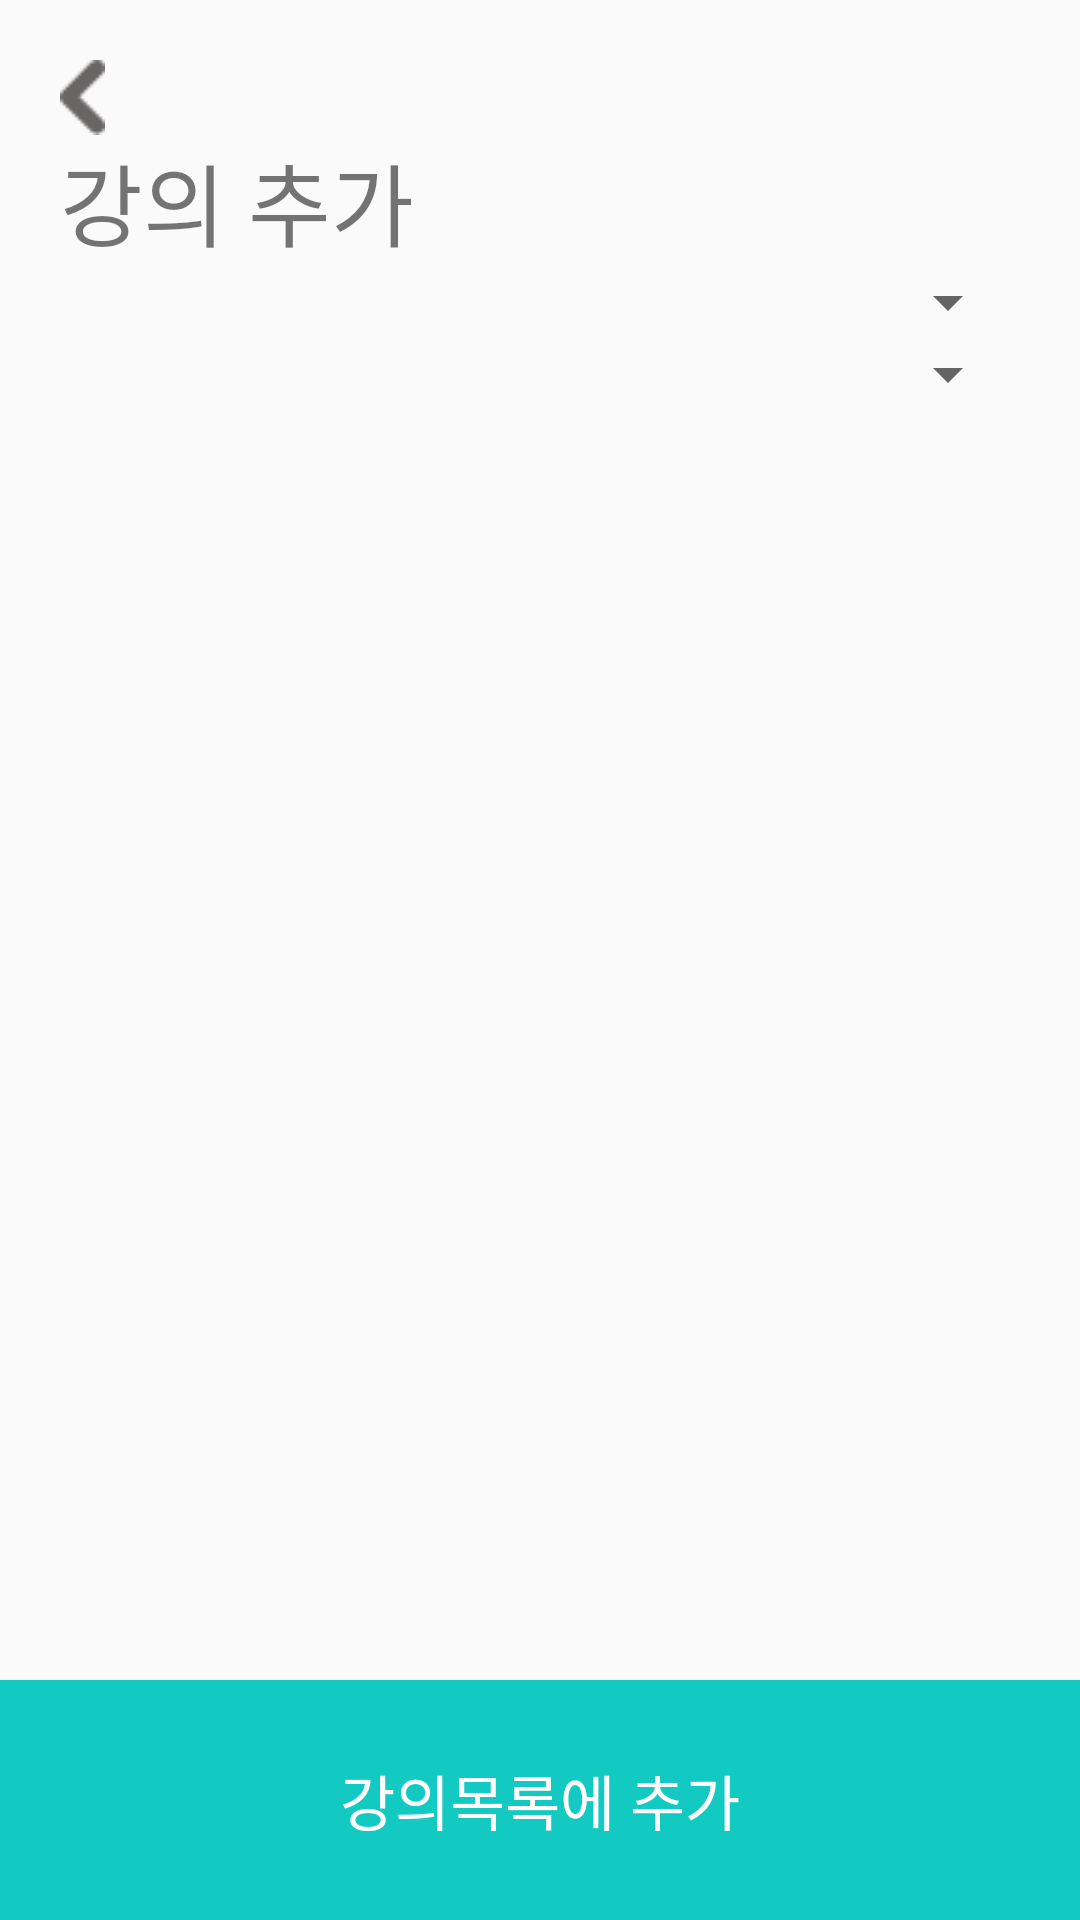

Icon click points for this 1080*1920 phone screenshot, format point (x, y):
back: point (82, 97)
